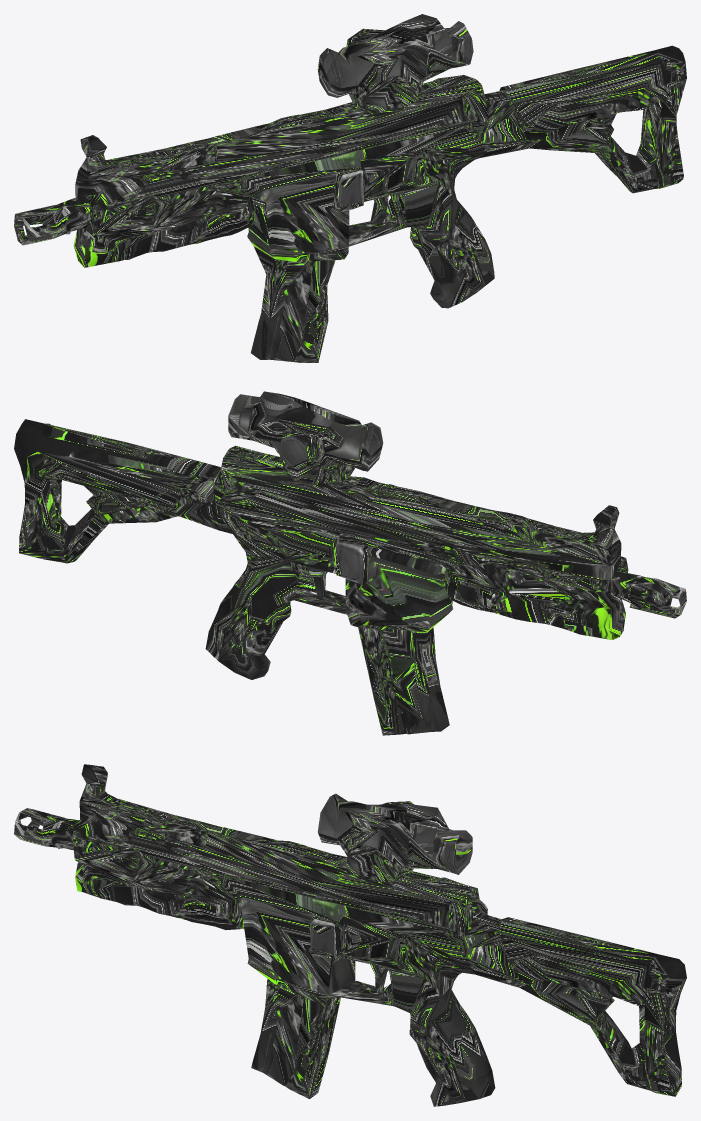
The model's file is gun_burst_lo.glb.
3 views of the same model, one above another, from view 1: azimuth 30°, elevation 25°; view 2: azimuth 150°, elevation 25°; view 3: azimuth 330°, elevation 25° (orthographic).
Parts seen in each view (by area): view 1: Mesh_0; view 2: Mesh_0; view 3: Mesh_0.
Part boxes in pixels (bbox=[...]): Mesh_0: bbox=[14, 14, 686, 362]; Mesh_0: bbox=[14, 391, 686, 735]; Mesh_0: bbox=[14, 764, 686, 1106].
Bounding box in the file's own units: 1.9 × 0.8626 × 0.1977.
1 material, 1 textured.
